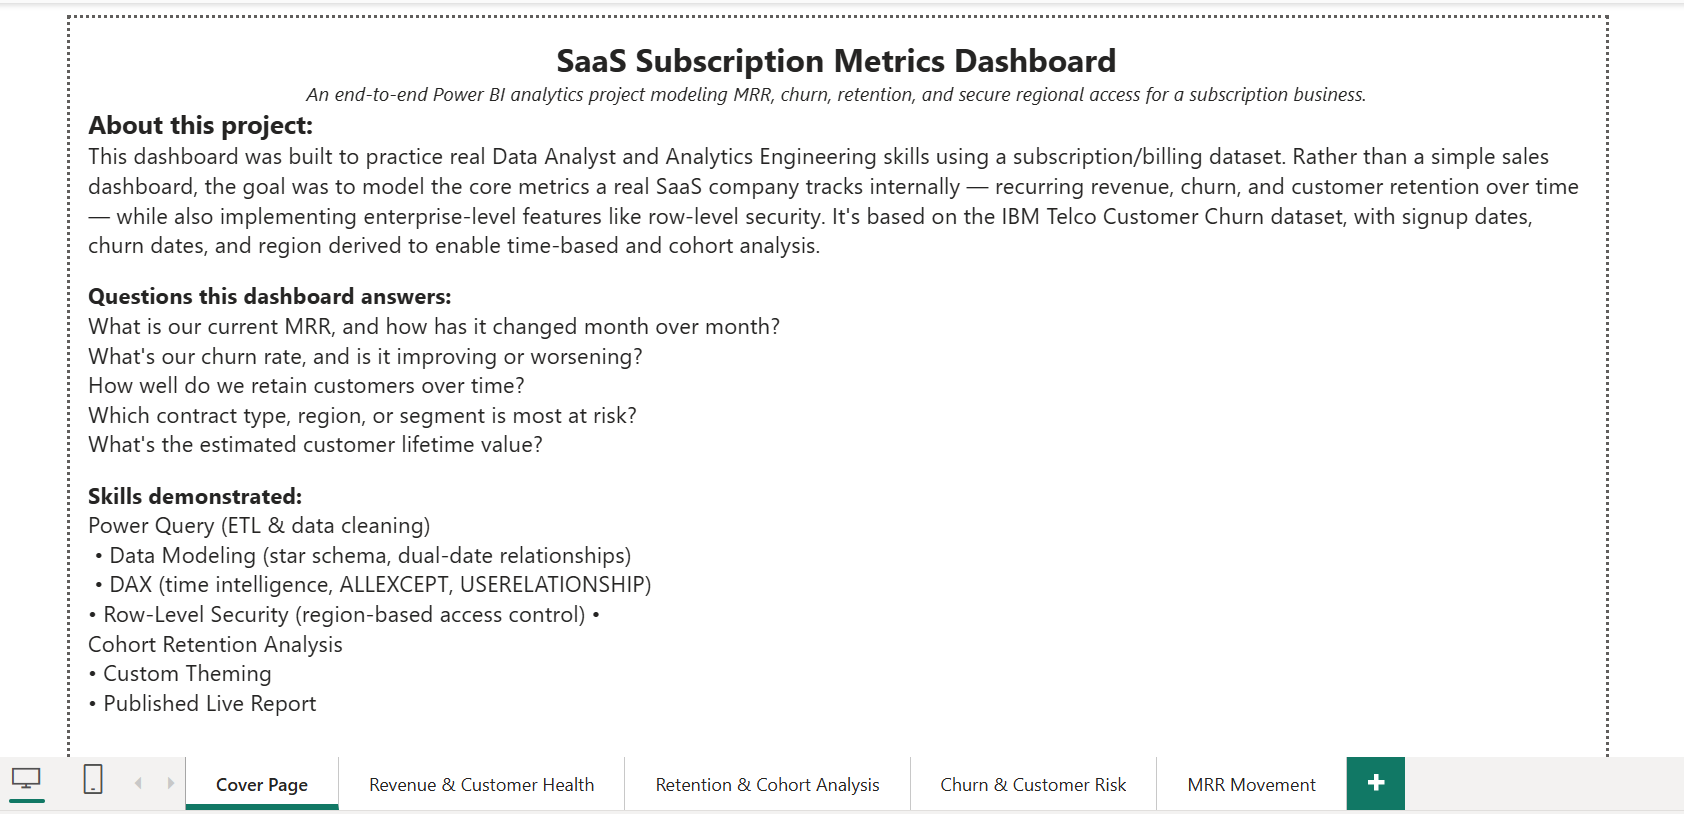

The dashboard page shown, as its layout file describes it:
{"tool":"powerbi","page":{"name":"Cover Page","canvas":[1280,720],"ordinal":0},"visuals":[{"type":"textbox","box":[10.2,11.6,1257.6,692.8],"z":0}]}

Visuals, with their boxes on the page's 1280x720 design canvas (x1, y1, x2, y2). These are canvas units, not pixel positions in the 1684x814 screenshot, which may show the page scaled, cropped or inside an application window:
textbox: 10 12 1268 704
